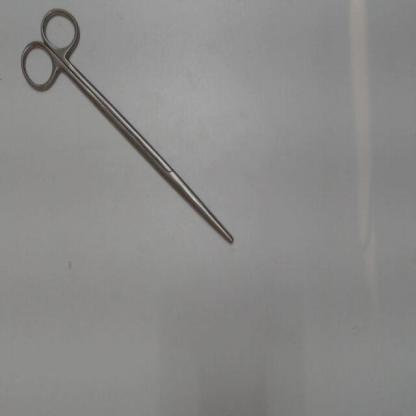9 Metzenbaum Scissors: (16, 4, 240, 249)
